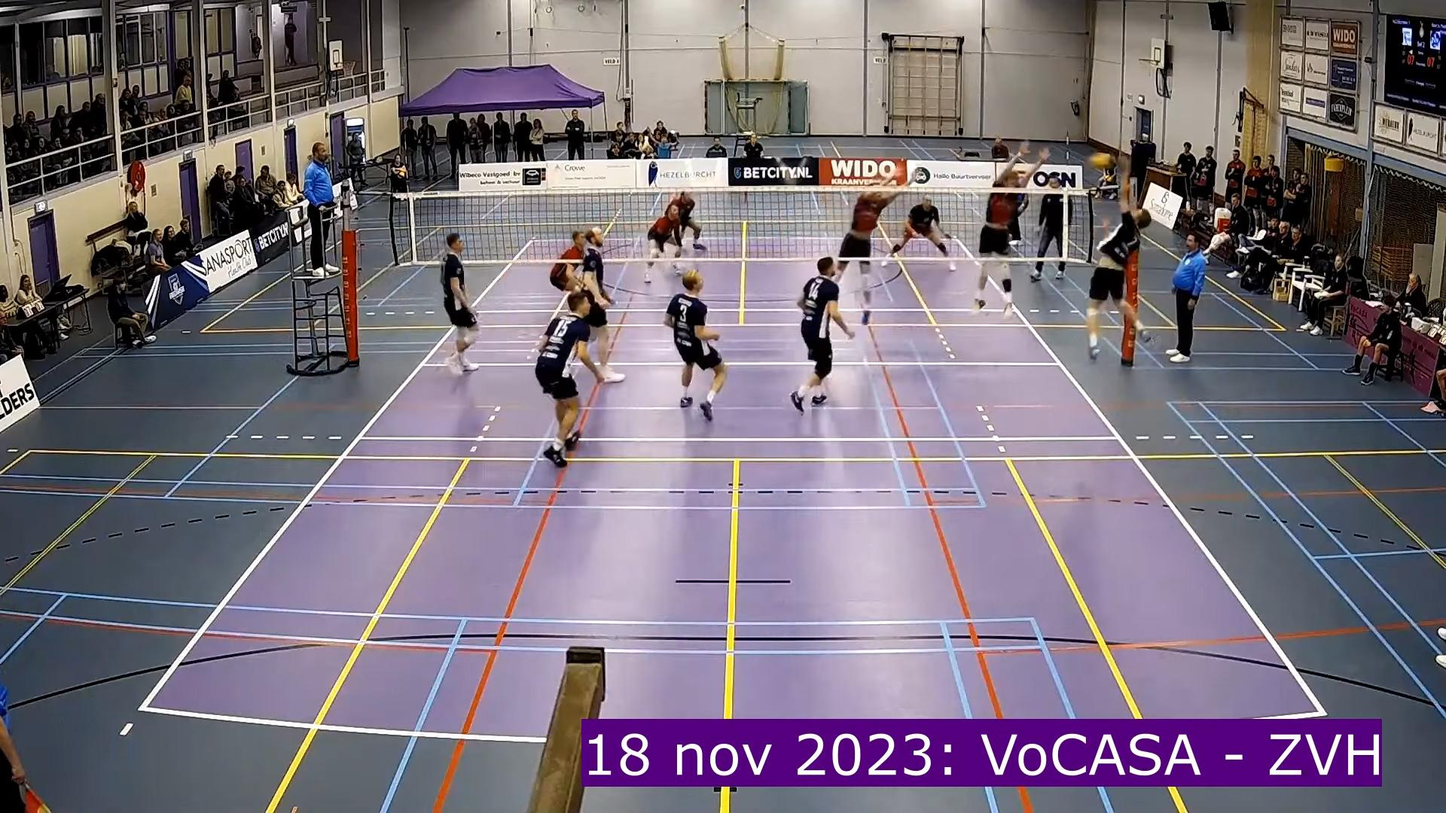attacco: (1073, 172, 1159, 365)
muro: (827, 154, 920, 327), (972, 139, 1054, 307)
